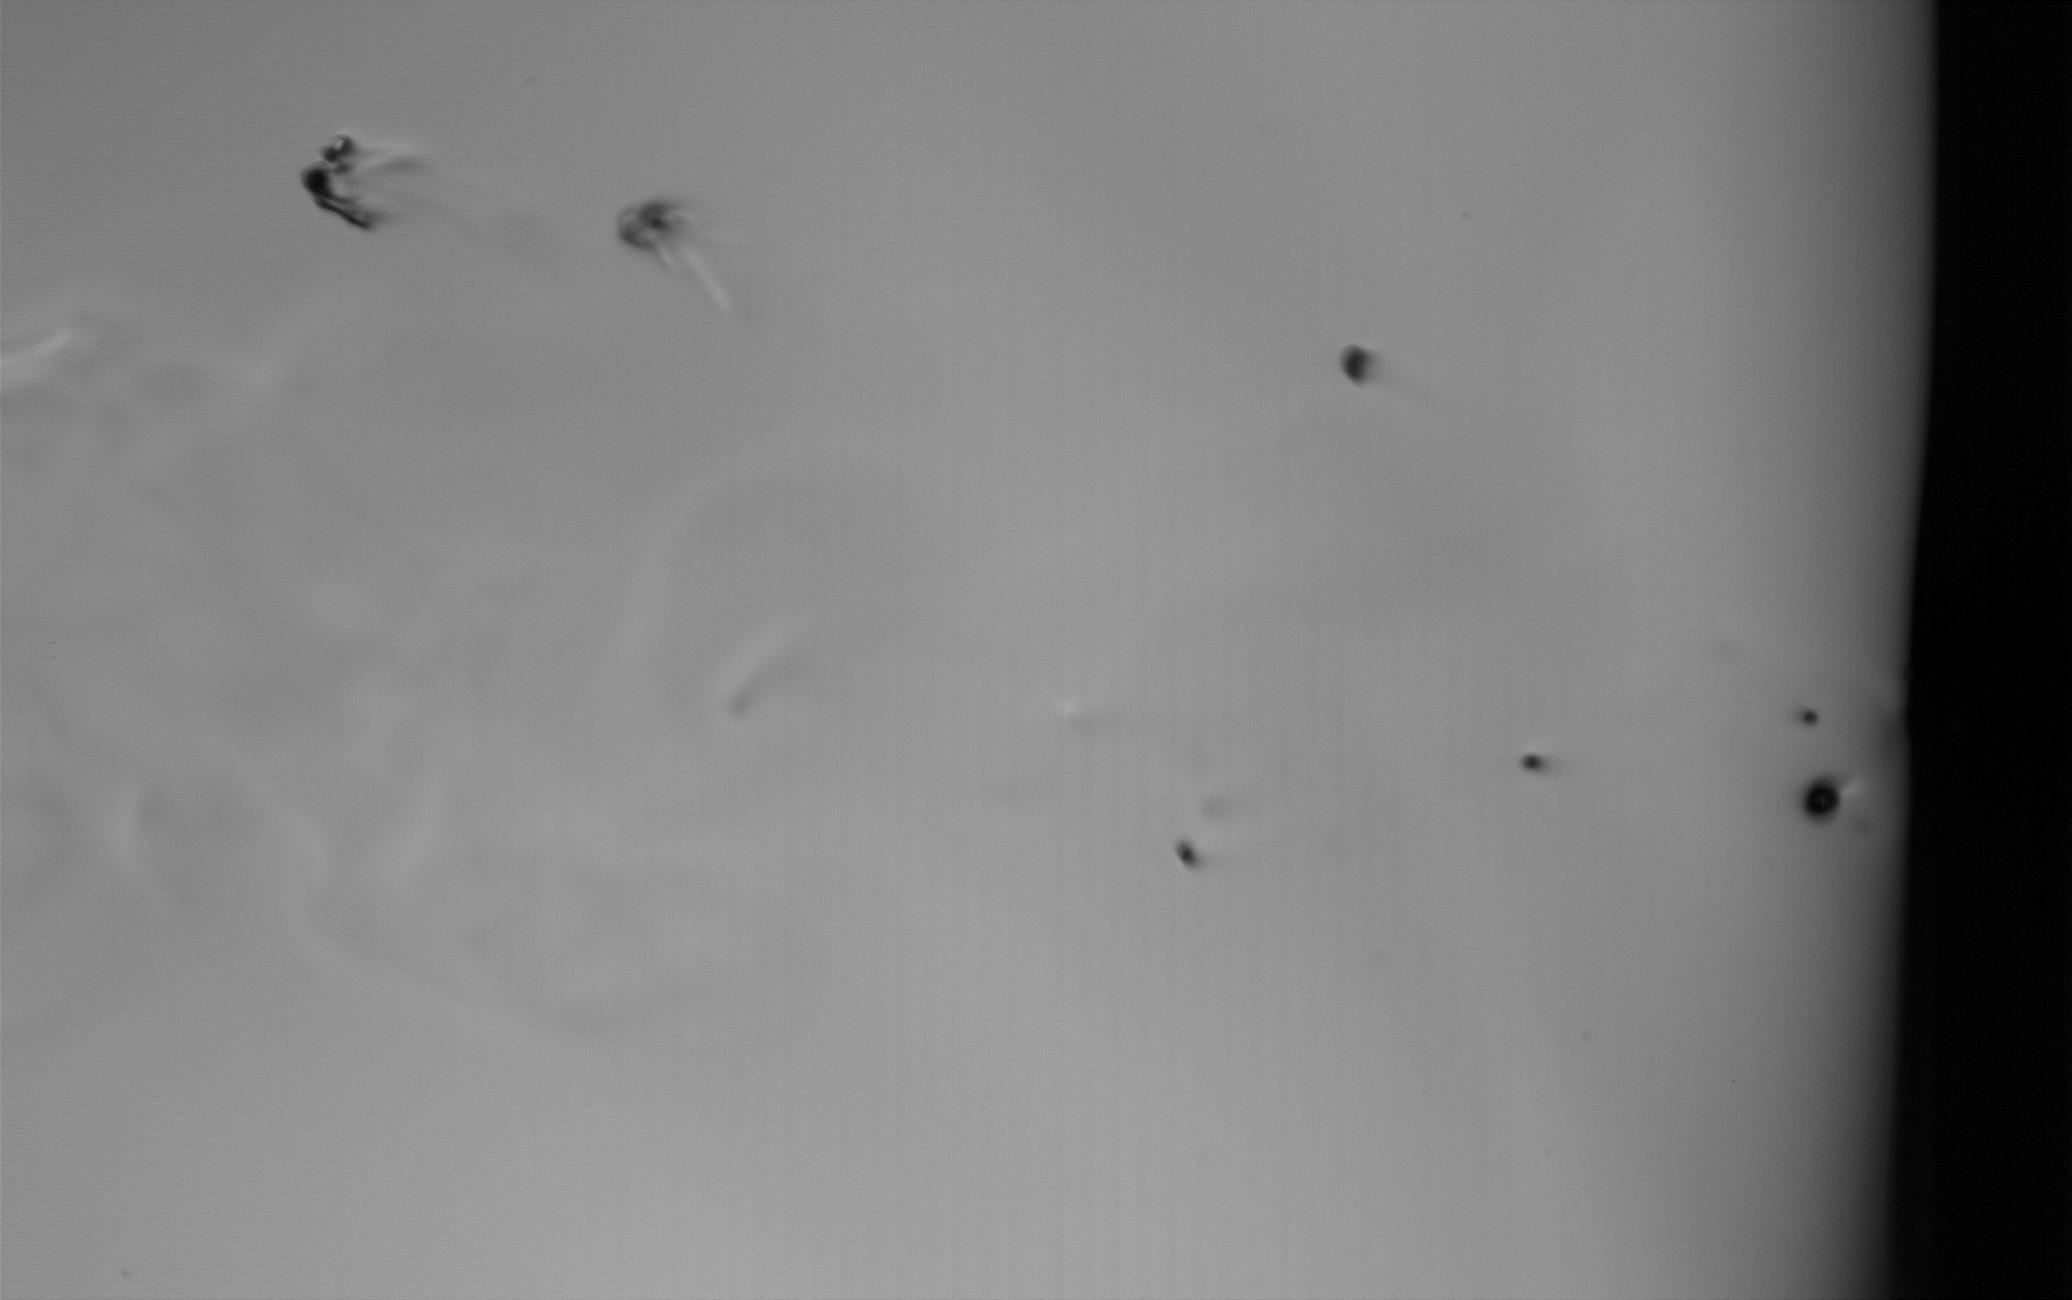Blurry: (301, 130, 397, 234), (615, 198, 681, 259)
ClassicalEvaporation: (1800, 777, 1843, 822), (1520, 746, 1550, 774), (1797, 704, 1822, 731)
TransitionalMixing: (1335, 340, 1379, 389), (1175, 837, 1202, 875)
